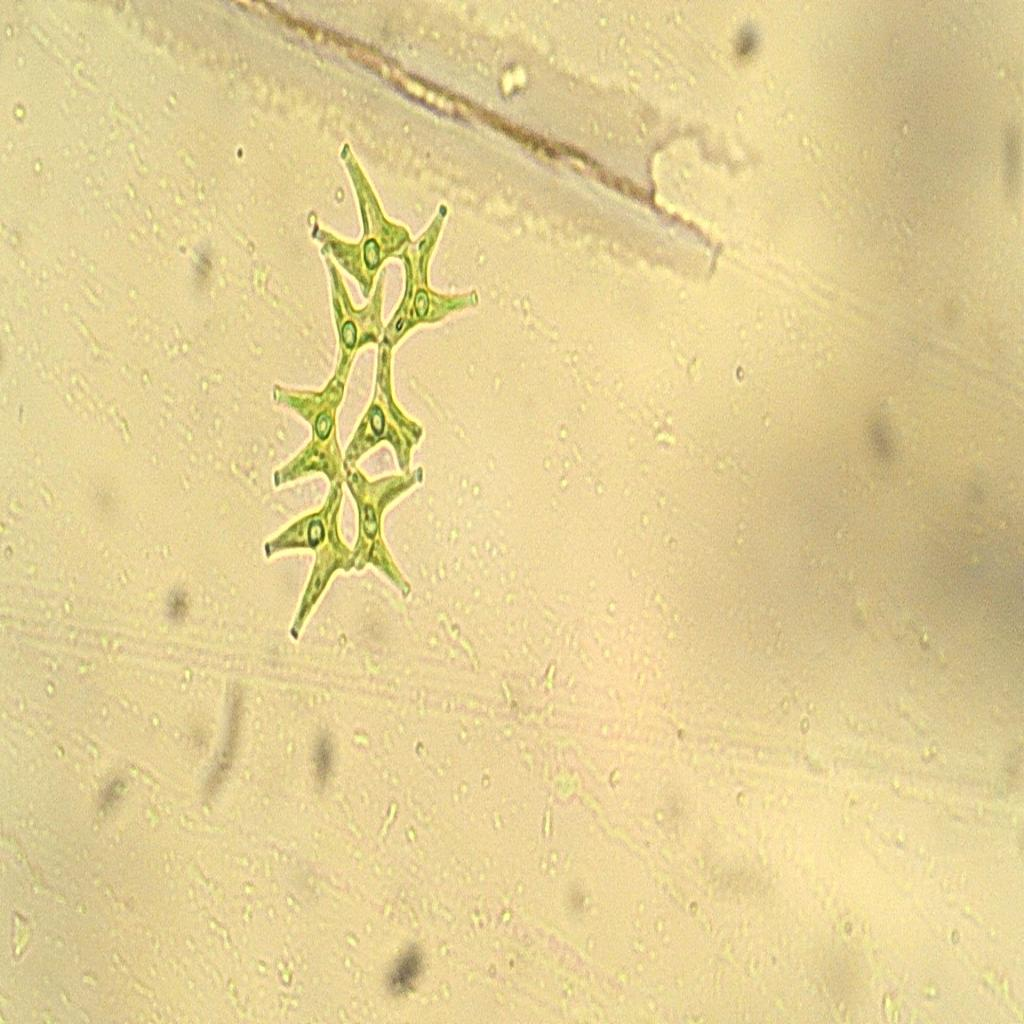Pediastrum_1TH: (250, 115, 485, 680)
